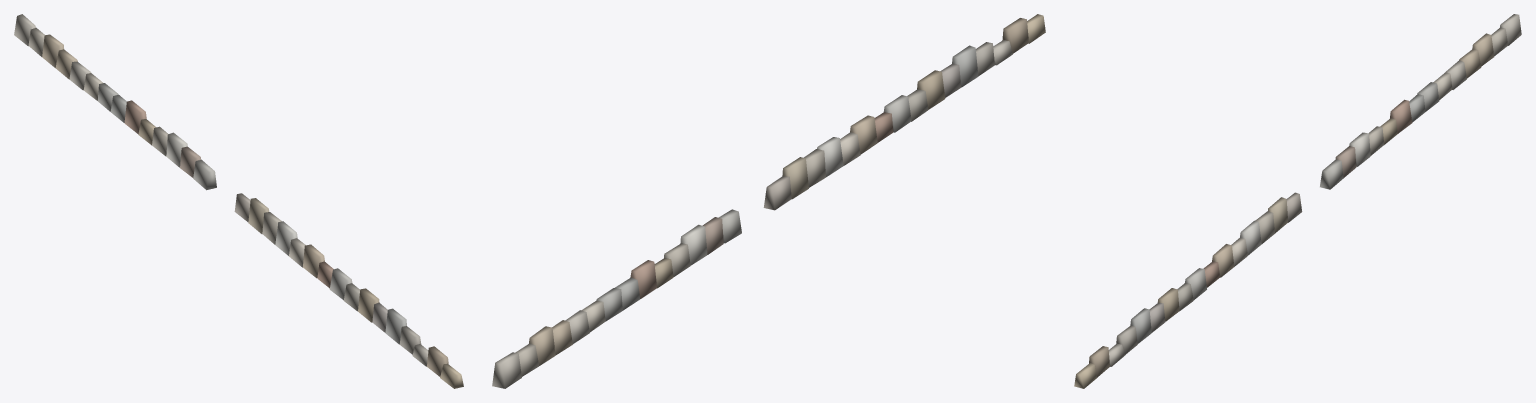
The model's file is farm_14_9_far.glb.
3 views of the same model, side by side, from view 1: azimuth 30°, elevation 25°; view 2: azimuth 150°, elevation 25°; view 3: azimuth 330°, elevation 25° (orthographic). The views are drawn at different scales.
Visible parts, largest first — view 1: geometry_0; view 2: geometry_0; view 3: geometry_0.
Part boxes in pixels (x1=…): geometry_0: x1=14, y1=14, x2=463, y2=388; geometry_0: x1=492, y1=14, x2=1045, y2=388; geometry_0: x1=1074, y1=14, x2=1521, y2=388.
Bounding box in the file's own units: 0.8008 × 3.4 × 51.18.
